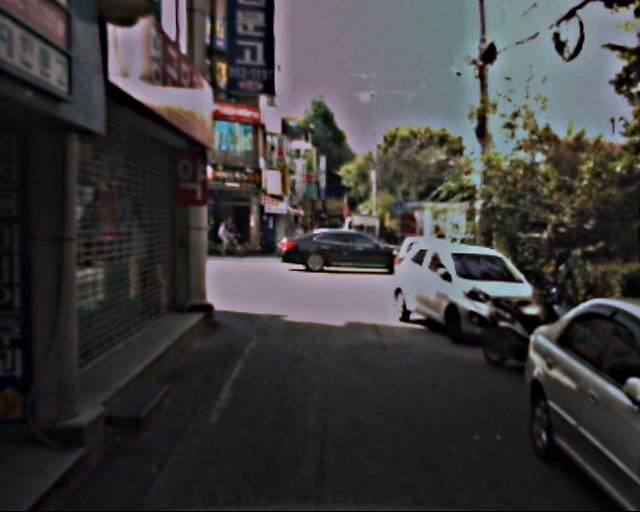person: (220, 215, 235, 251)
